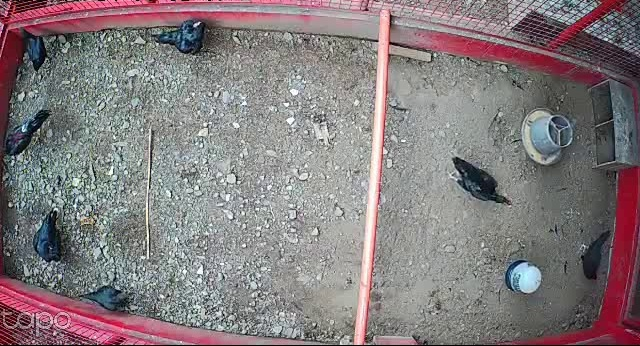Chicken: (447, 154, 518, 208), (148, 18, 218, 56), (75, 281, 135, 314), (31, 211, 68, 263), (16, 25, 54, 73), (581, 230, 612, 280)
Drinker: (505, 259, 542, 295)
Feeder: (519, 104, 574, 168)
Rooster: (0, 104, 52, 165)
